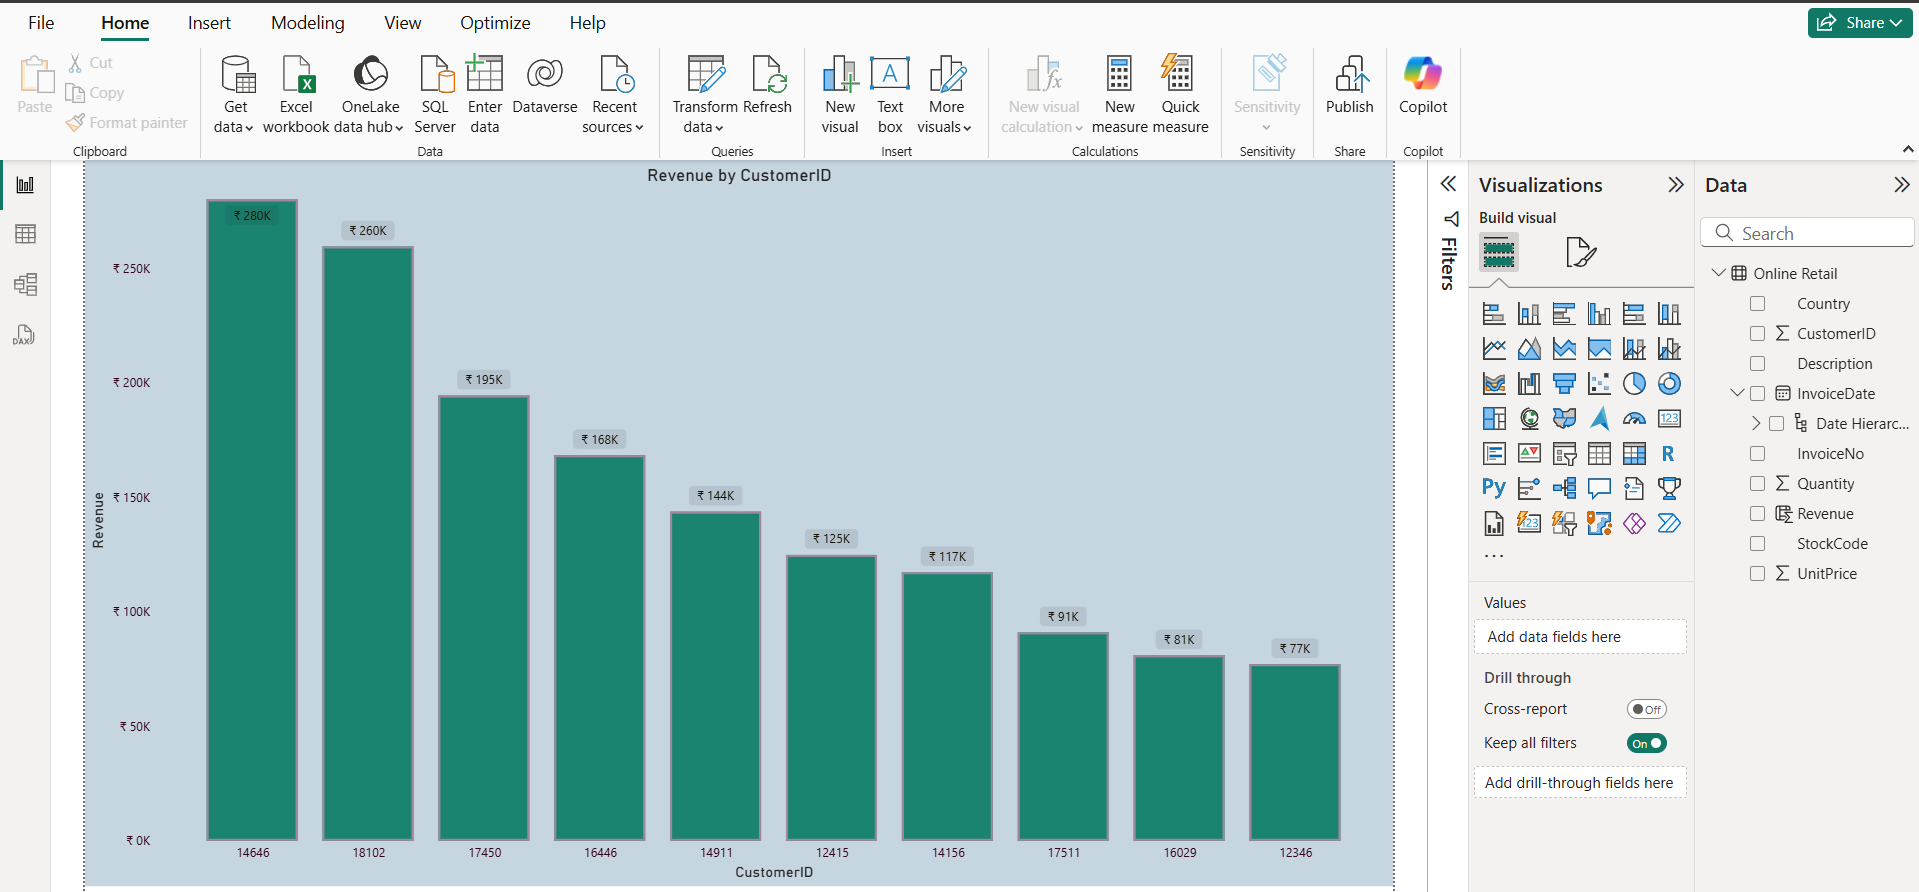

What the dashboard file says about the page in this screenshot:
{"tool":"powerbi","page":{"name":"Question 3","canvas":[1280,720],"ordinal":2},"visuals":[{"type":"clusteredColumnChart","fields":{"Category":["Online Retail.CustomerID"],"Y":["Sum(Online Retail.Revenue)"]},"box":[0,0,1280,710],"z":0}]}

Visuals, with their boxes on the page's 1280x720 design canvas (x1, y1, x2, y2). These are canvas units, not pixel positions in the 1919x892 screenshot, which may show the page scaled, cropped or inside an application window:
clusteredColumnChart - Online Retail.CustomerID x Sum(Online Retail.Revenue): x1=0 y1=0 x2=1280 y2=710
